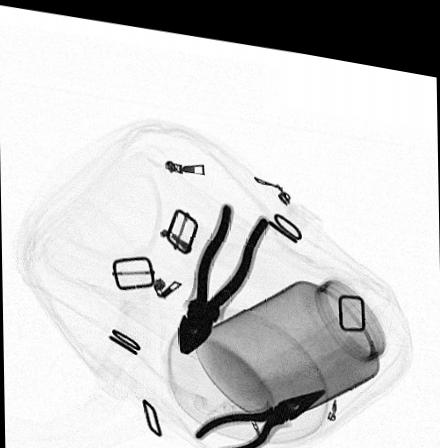Pliers: (174, 191, 270, 350), (192, 376, 323, 445)
